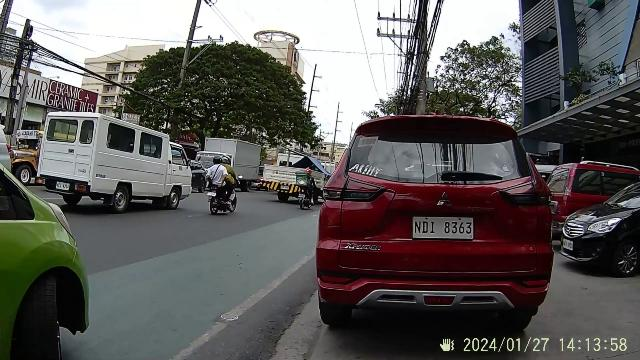car: (308, 131, 558, 339)
